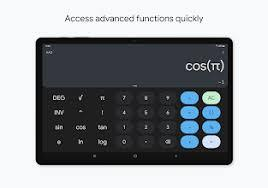Calculator: (30, 36, 242, 167)
